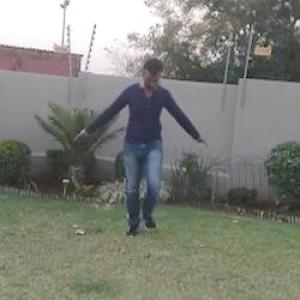land: (82, 63, 217, 242)
